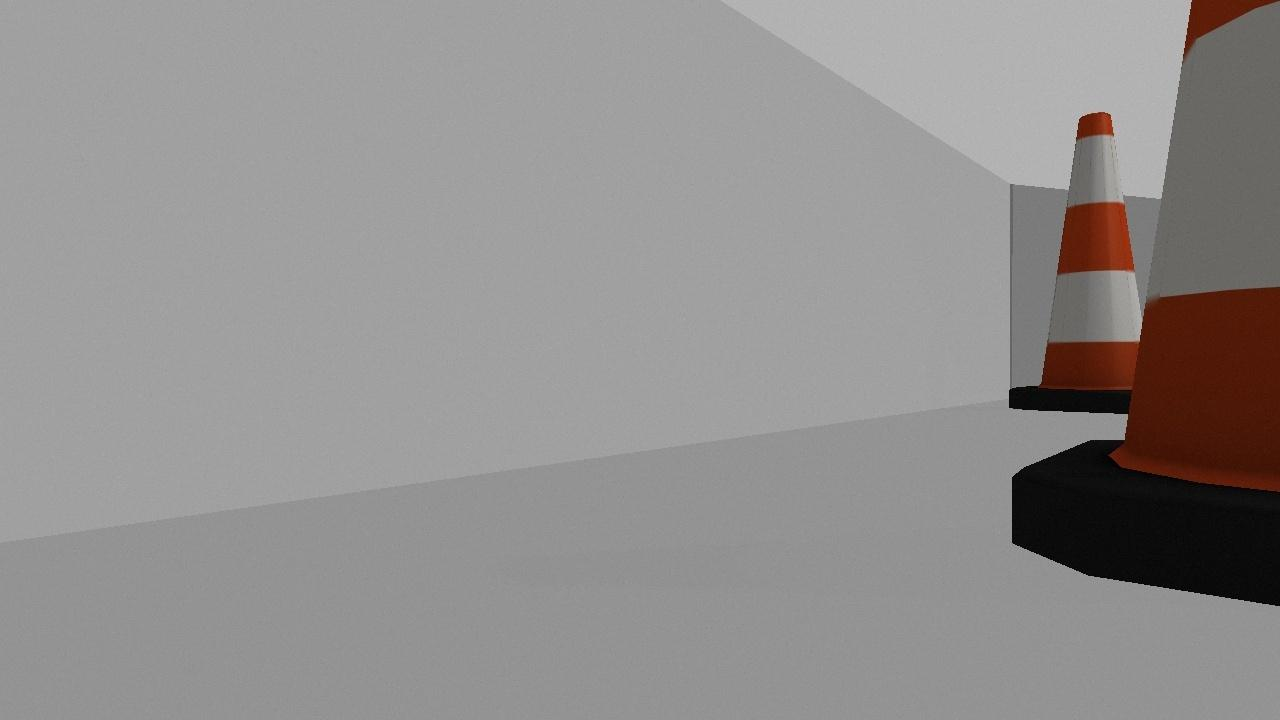cone_barrel: (1009, 0, 1279, 614), (1006, 110, 1174, 411)
